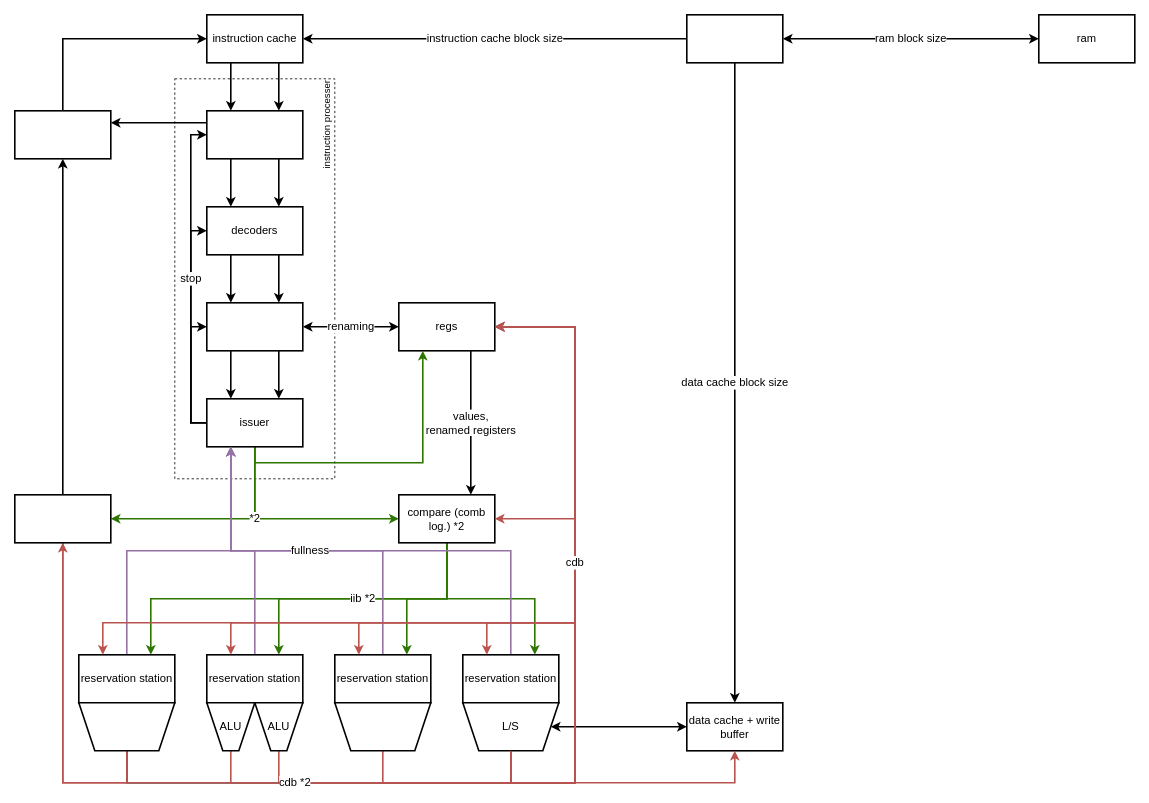
This 1149x803 diagram has some shape labels left out. The centre of each missing label's shape, as x and y in pixels:
BR: point (126, 726)
loader: point (254, 134)
MLT/DIV: point (382, 726)
mmu: point (734, 38)
pc: point (62, 134)
reorder buffer: point (62, 518)
resolver: point (254, 326)
